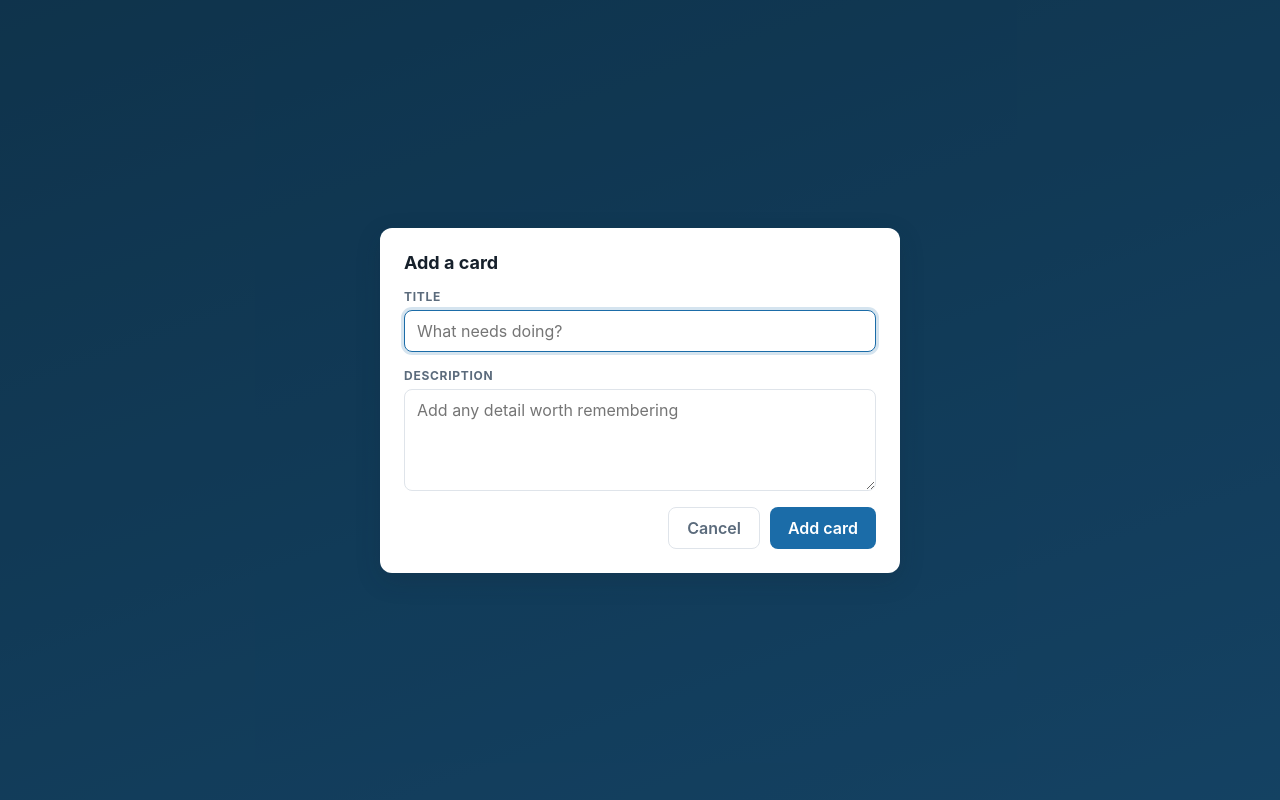
TicketFormModal › surfaces a server error instead of closing
This screenshot has width=1280, height=800.
Type "Doomed" into the field labelled "Title" at [640, 330], box left=404, top=310, right=876, bottom=352
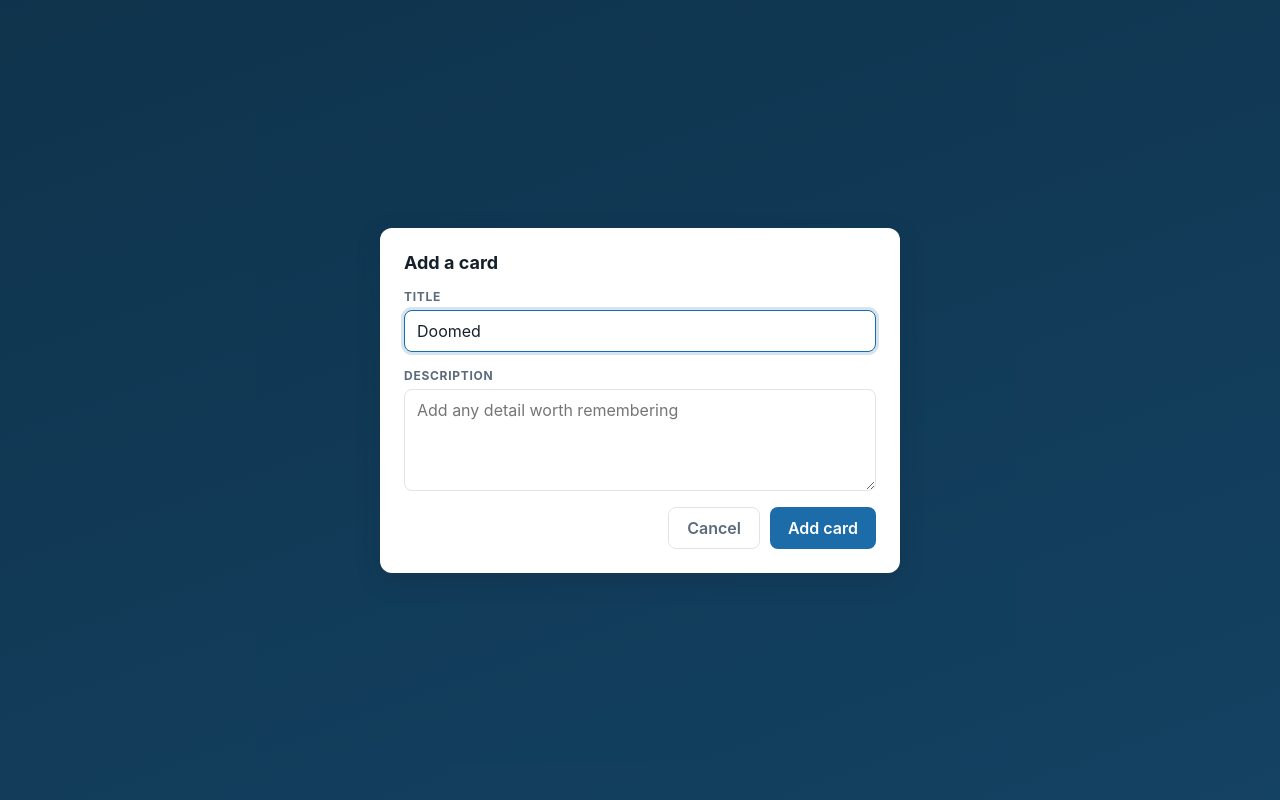
Click the button "Add card" at [823, 528], box left=770, top=506, right=876, bottom=548
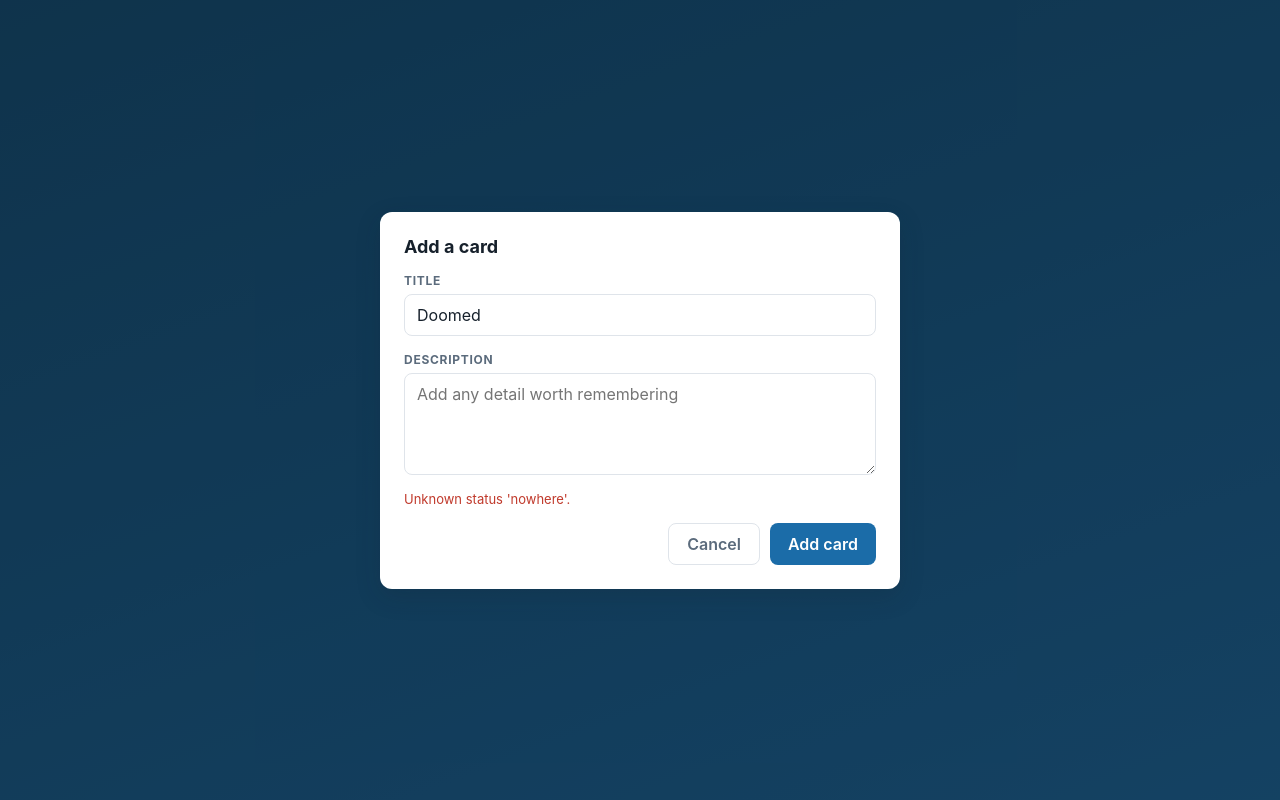
Expected: the message shows "Unknown status", left=404, top=490, right=570, bottom=506
